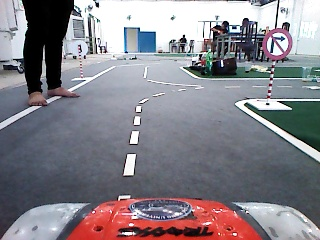ban: (260, 27, 294, 63)
